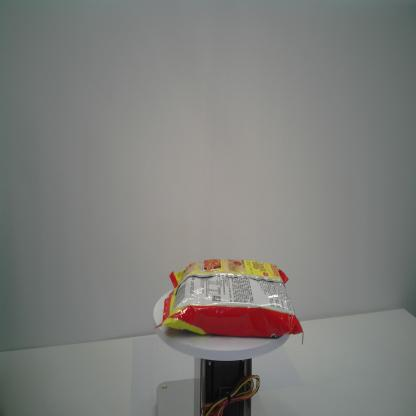Instant Noodles: (153, 258, 304, 346)
